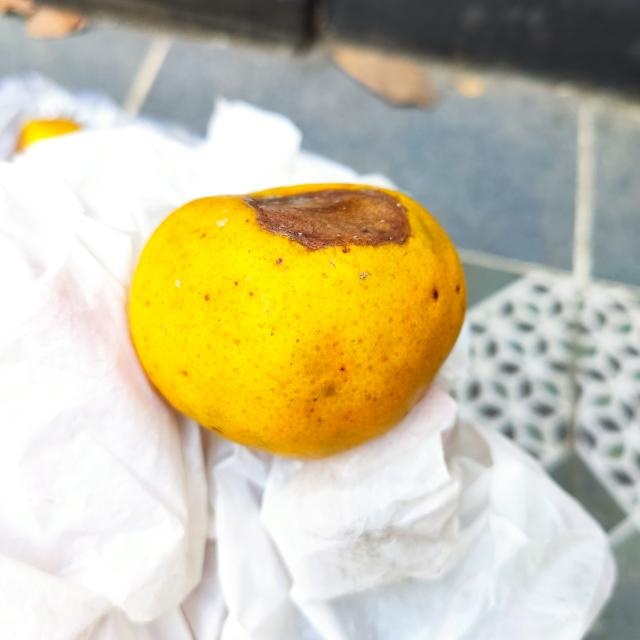agrume: (124, 183, 468, 461)
